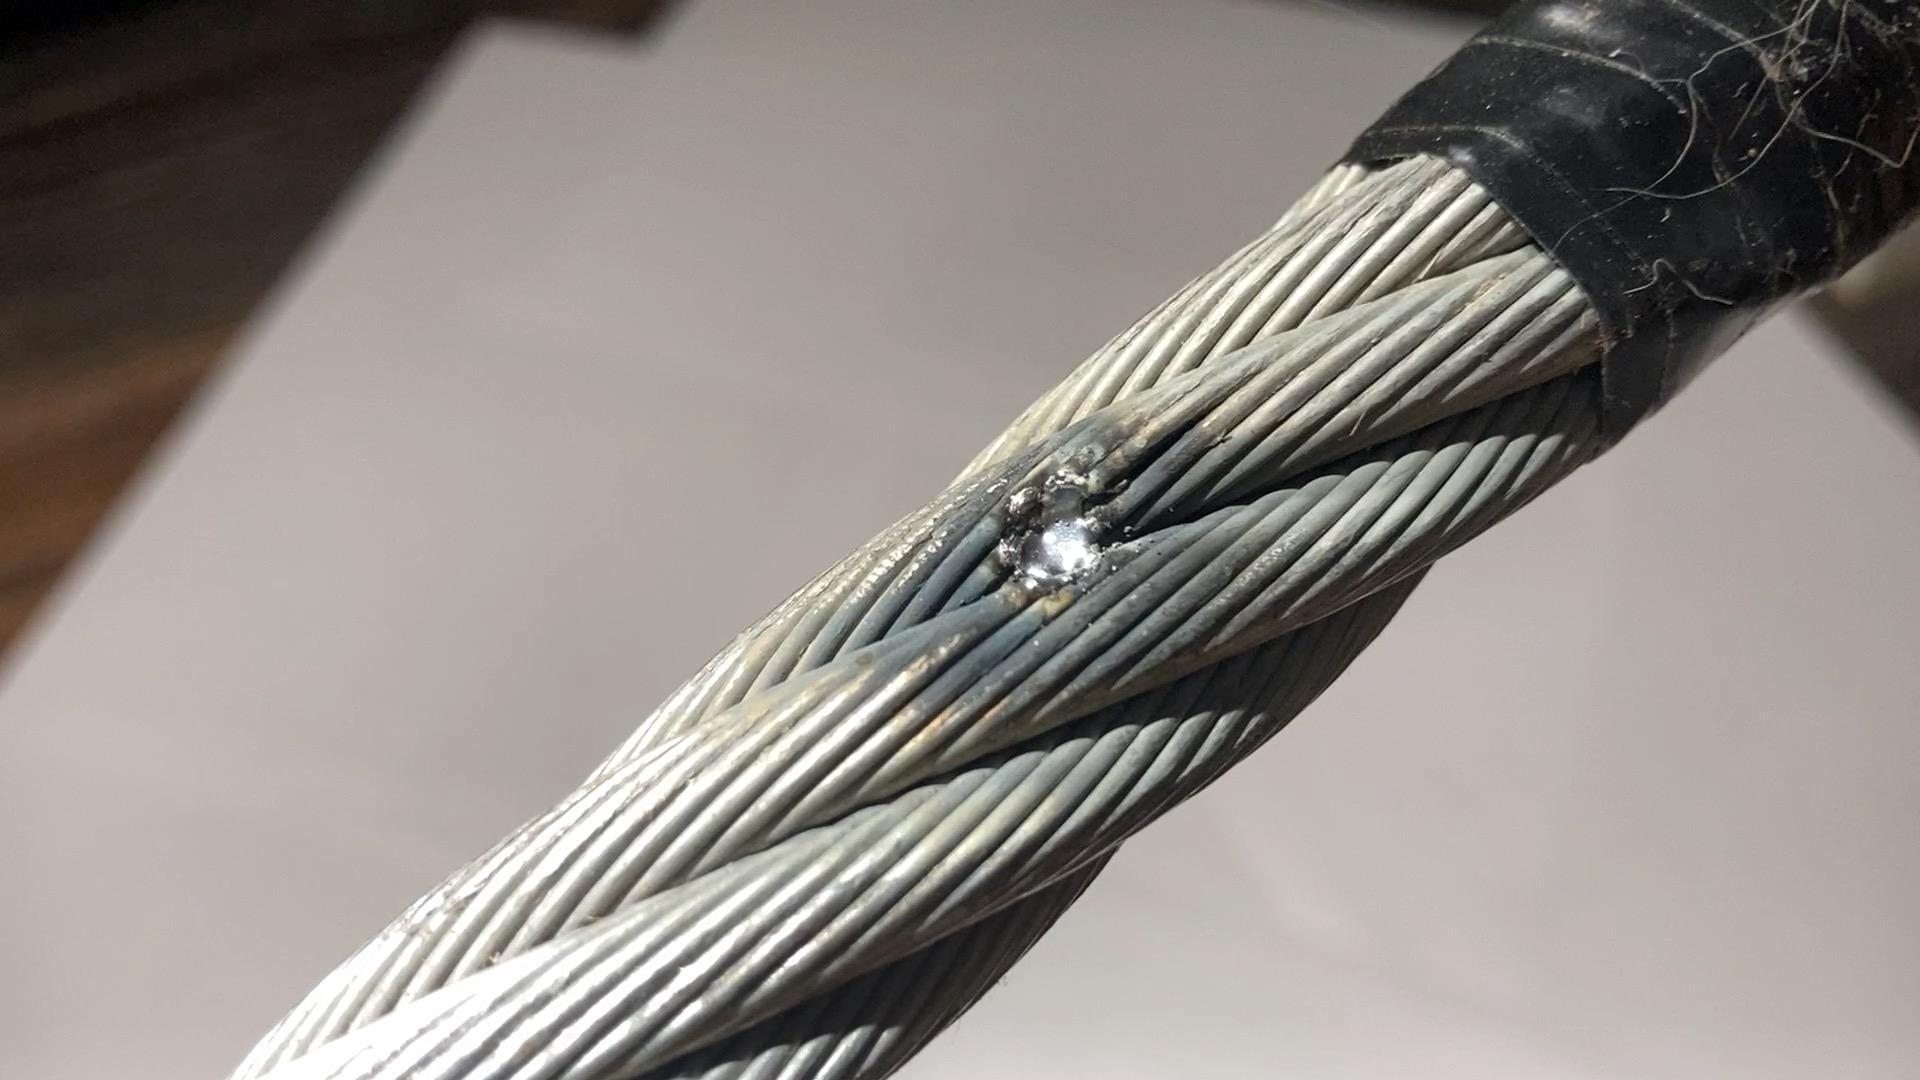thunderbolt: (985, 447, 1127, 613)
